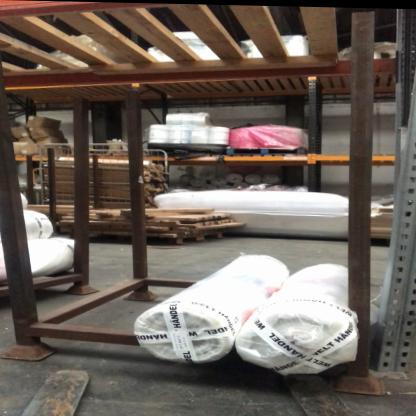vertical_damage: (366, 334, 414, 383)
